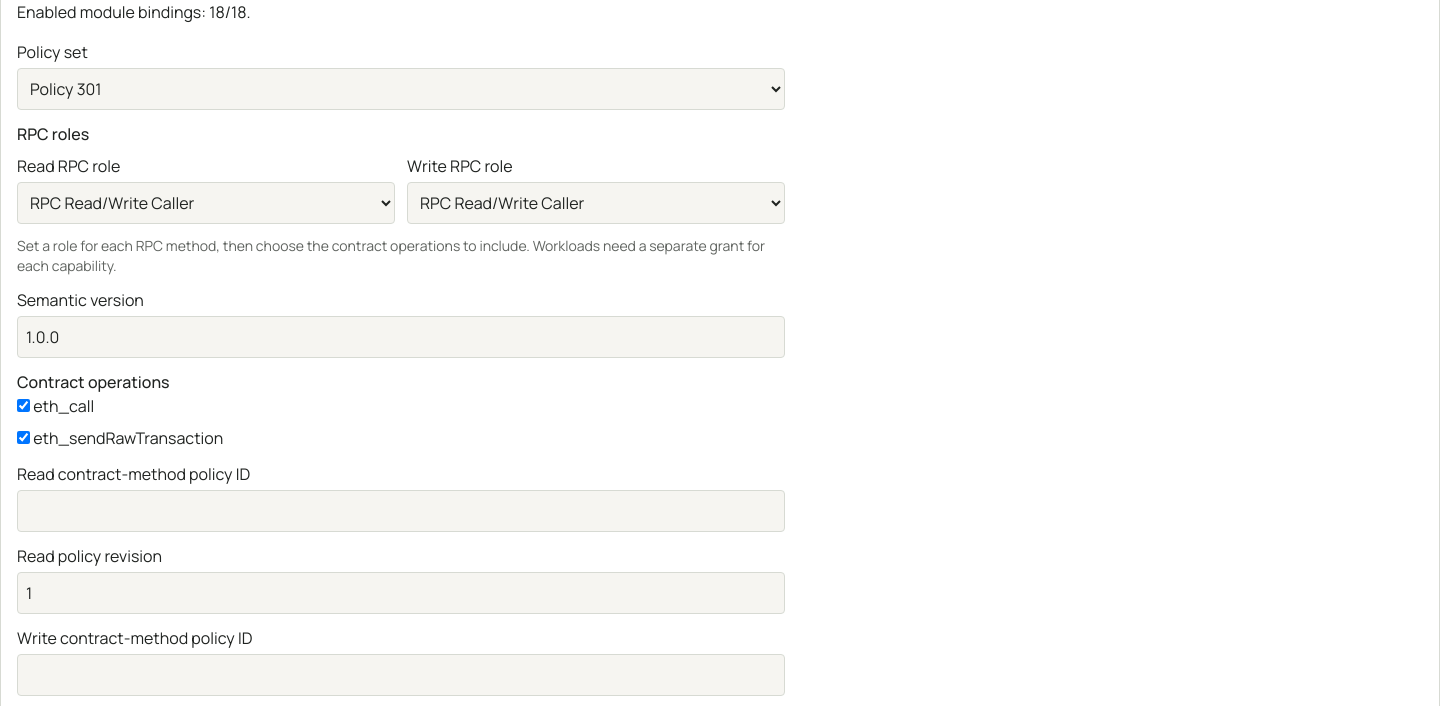
Test: rejects an empty method selection before any version request
(page scrolled)
Click the checkbox labelled "eth_call" at {"x": 24, "y": 406}, box [17,399,30,412]
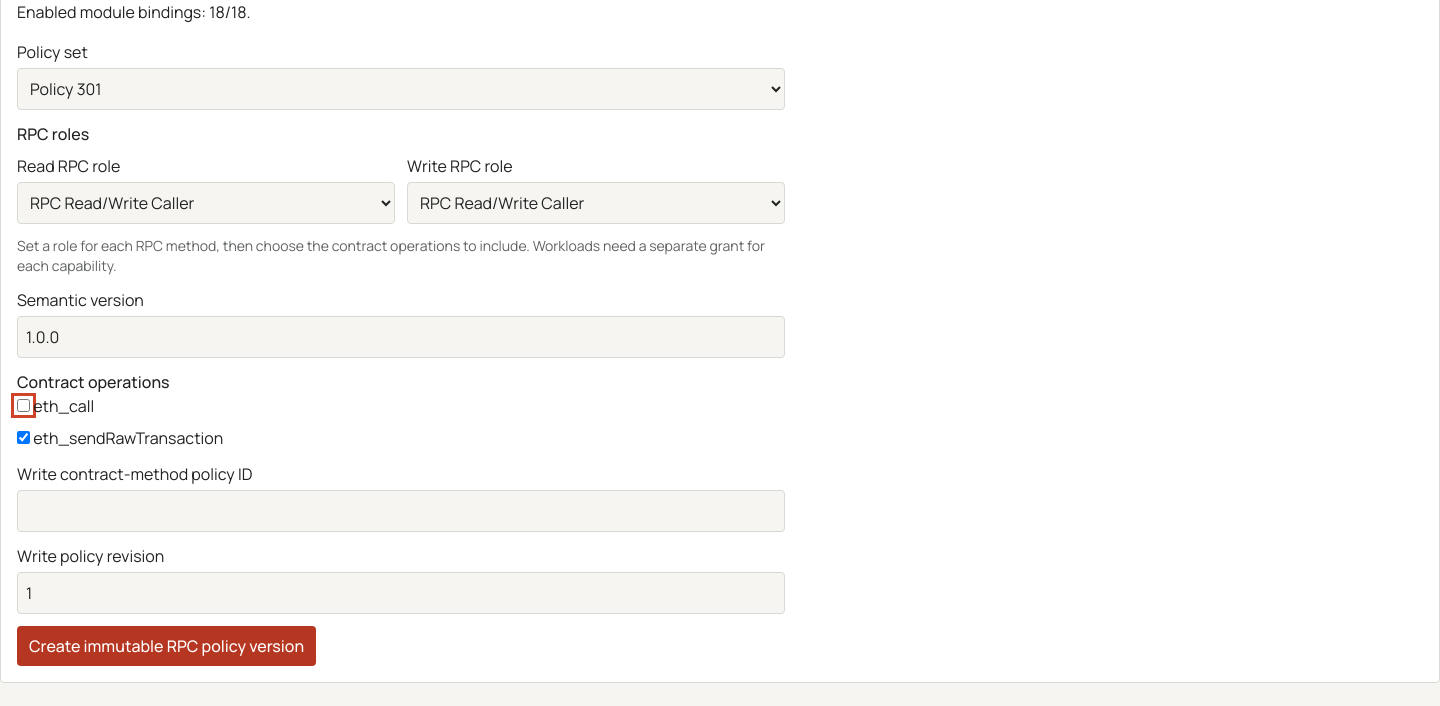
Click the checkbox labelled "eth_sendRawTransaction" at {"x": 24, "y": 438}, box [17,431,30,444]
(page scrolled)
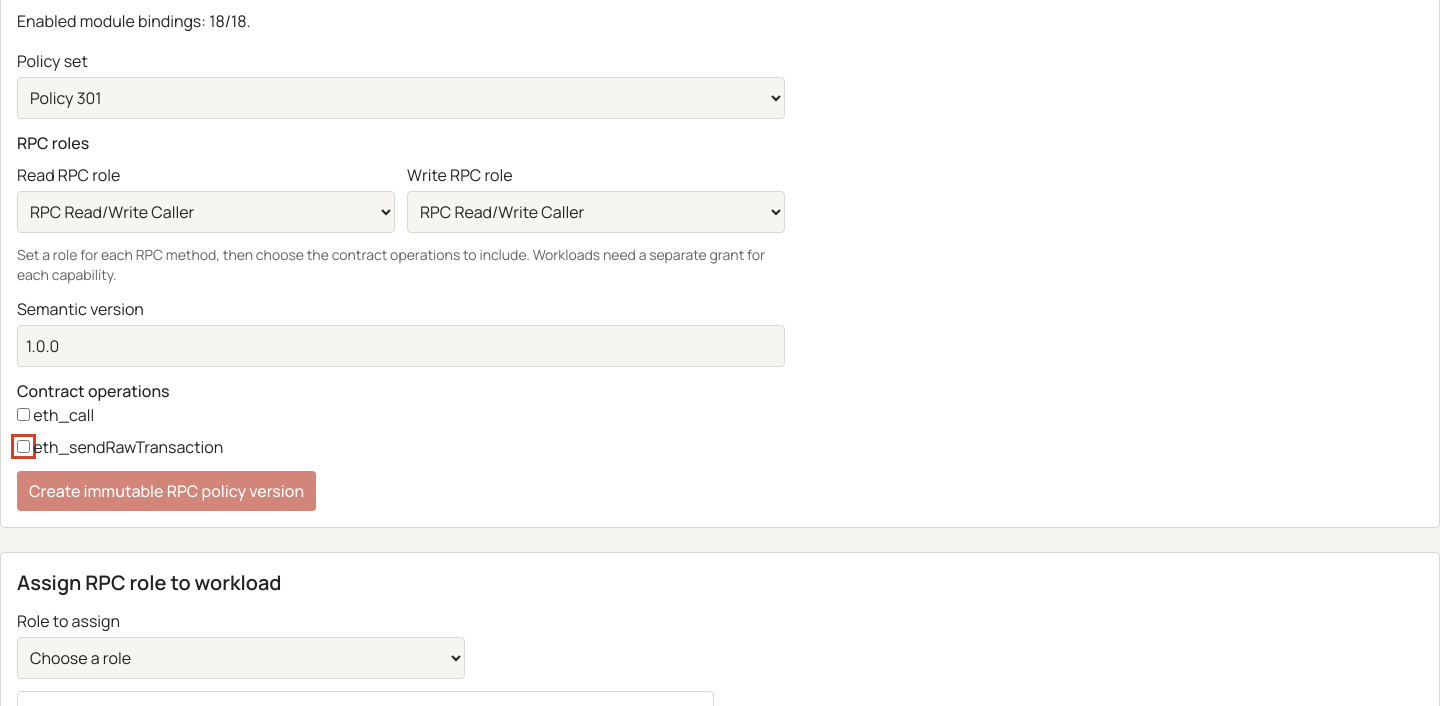
Now the button "Create immutable RPC policy version" is disabled, box [17,471,316,511]
Submit the form named "Create immutable RPC policy version", box [17,49,785,511]
(page scrolled)
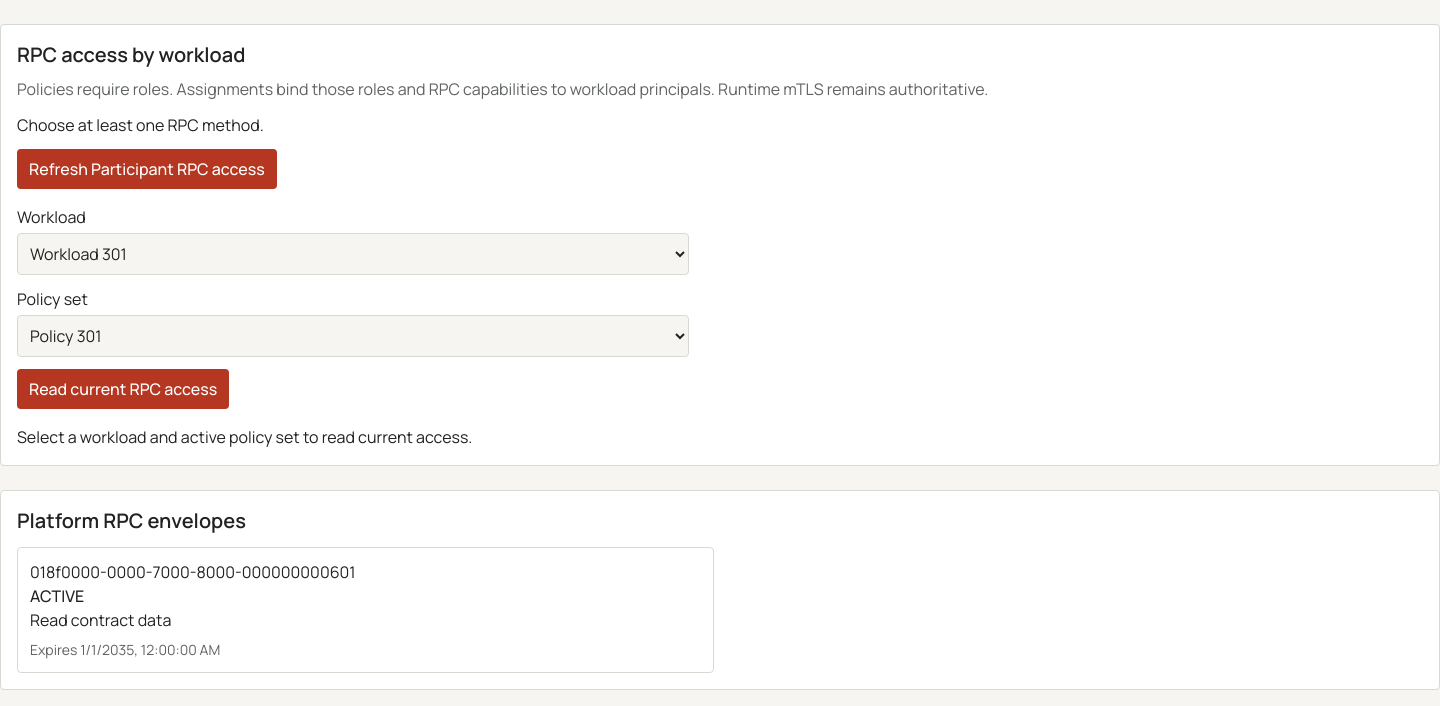
Now the text "Choose at least one RPC method." is shown, box [17,114,264,136]
